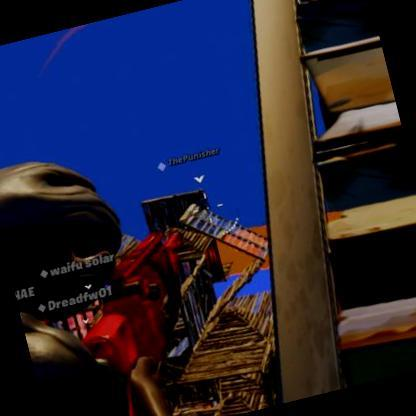person: (194, 186, 215, 214)
